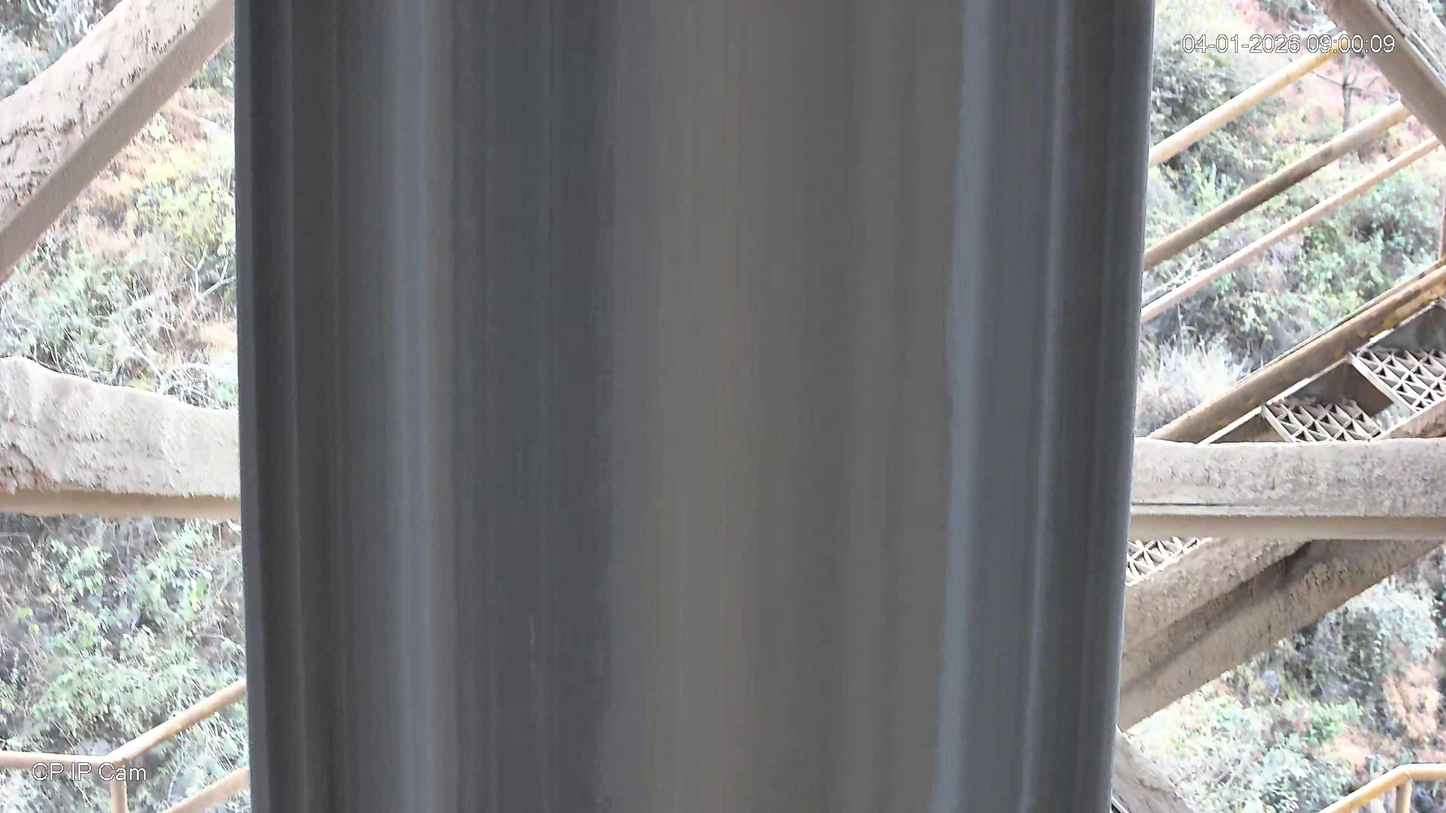belt_roi: (230, 0, 1156, 813)
